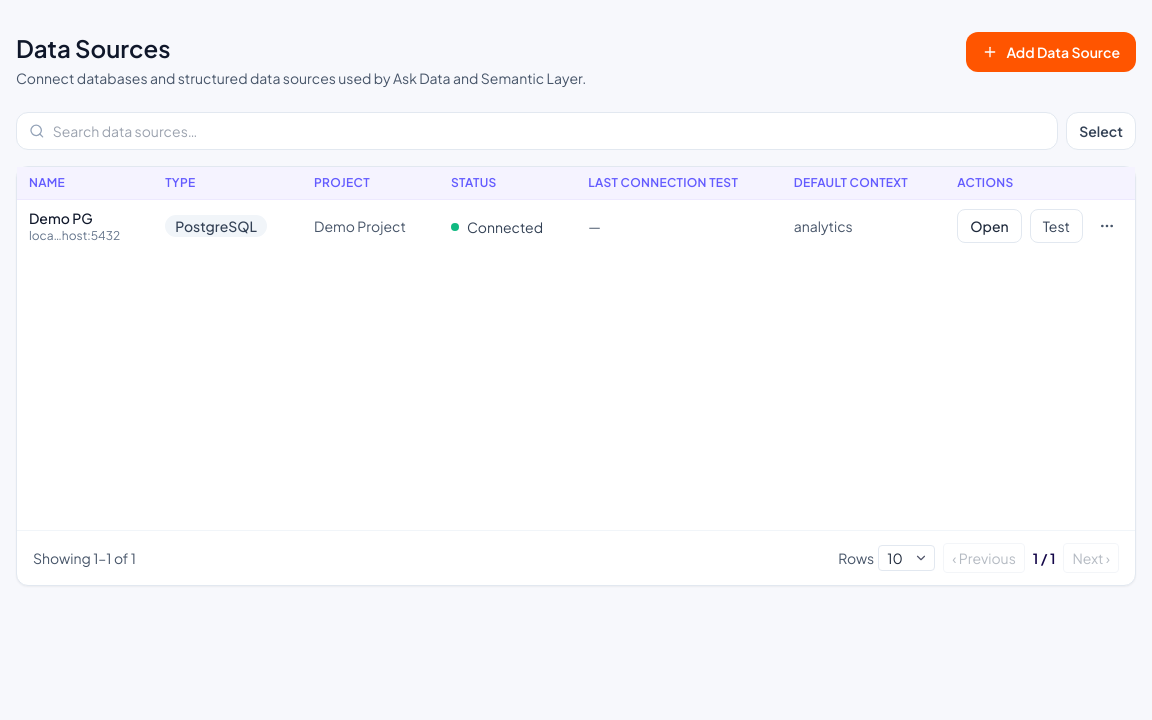
Scenario: DATA_SOURCES_UX_RENAME › delete confirmation uses data source copy
Expected: the text "Demo PG" is shown, [29,209,93,227]
Click the button named "More actions". click: (1107, 226)
box: [1091,210,1123,242]
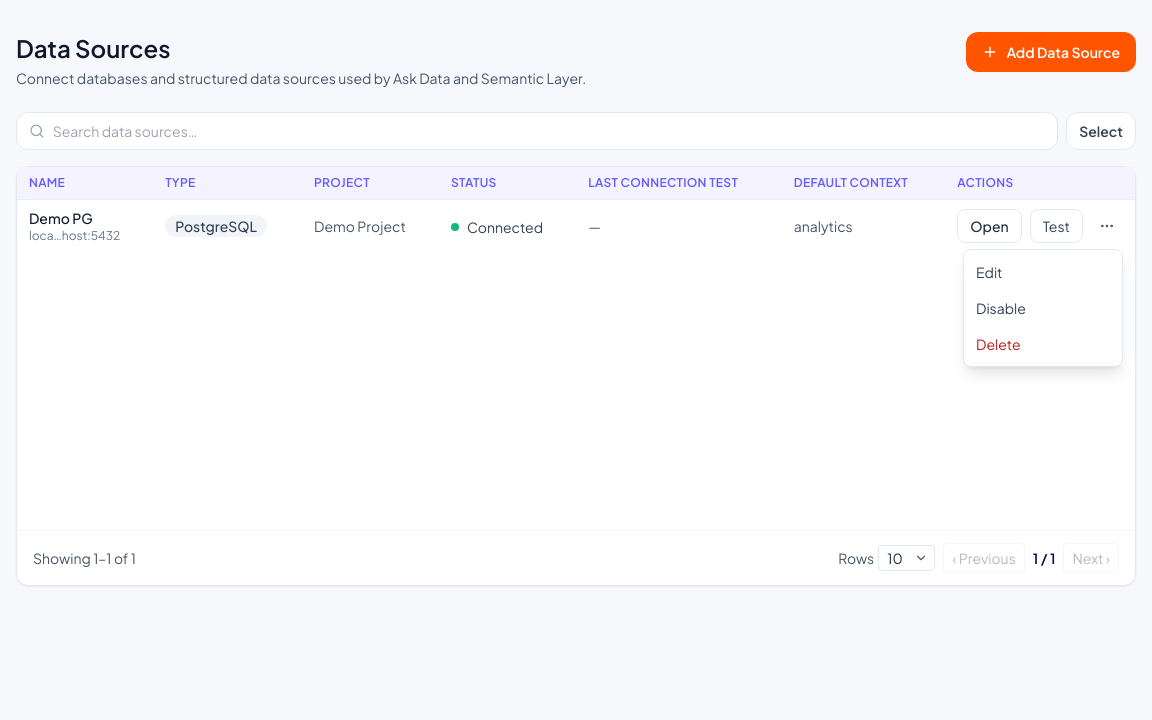
Click the button "Delete". click: (1043, 344)
box: [964,326,1122,362]
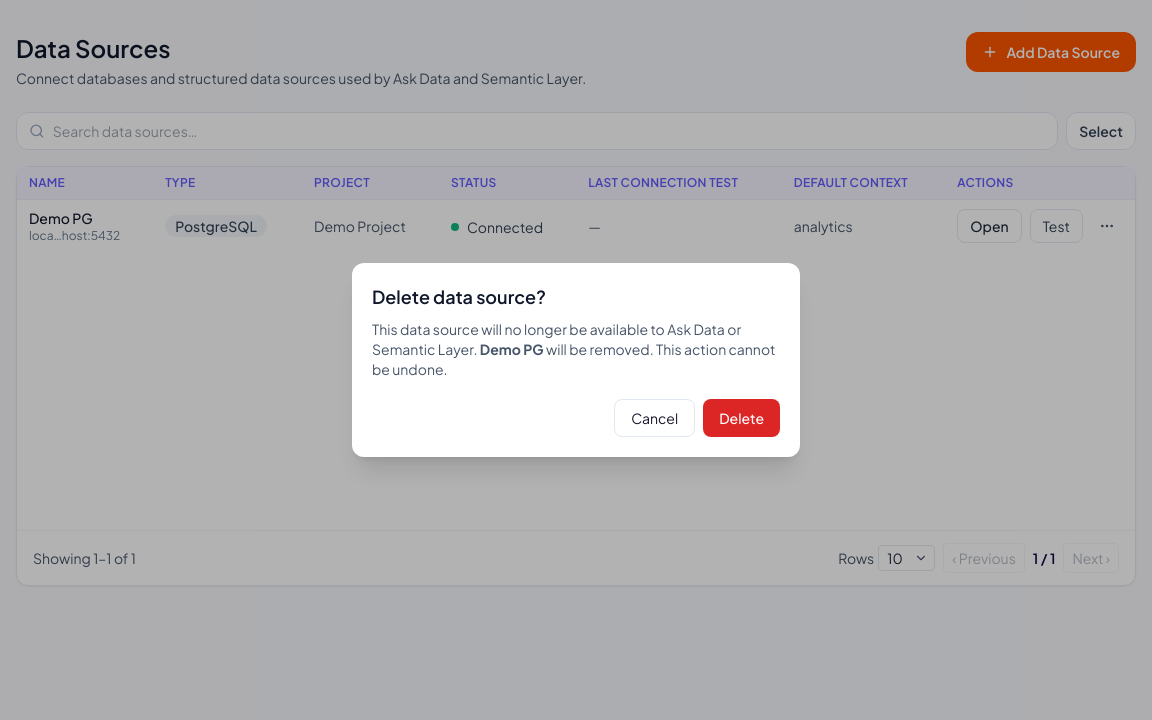
Expected: the heading "Delete data source?" is shown, [372,285,546,308]
Expected: the text "will no longer be available to Ask Data or Semantic Layer" is shown, [372,320,741,358]
